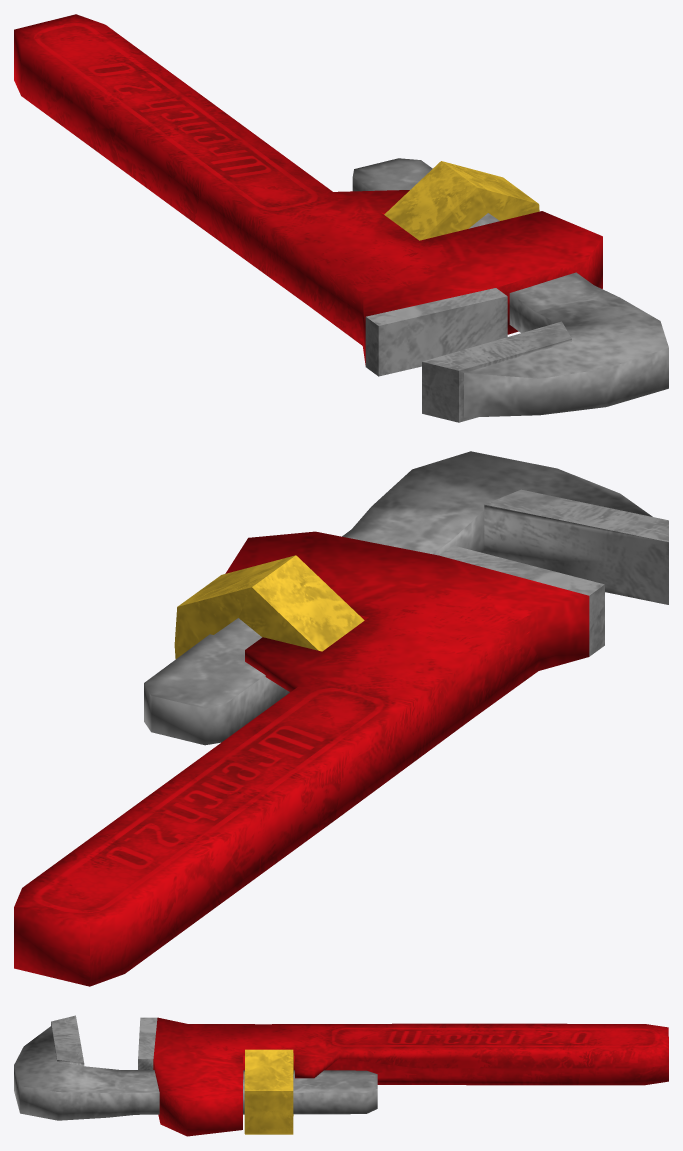
File: WrenchMono.fbx
3 renders of one model, top to bottom at view 1: azimuth 30°, elevation 25°; view 2: azimuth 150°, elevation 25°; view 3: azimuth 270°, elevation 25°, orthographic. The views are drawn at different scales.
Visible parts, largest first — view 1: Wrench_Normal; view 2: Wrench_Normal; view 3: Wrench_Normal.
Boxes of the visible parts, <box> form: Wrench_Normal: <box>14,14,668,422</box>; Wrench_Normal: <box>14,451,668,986</box>; Wrench_Normal: <box>14,1015,668,1136</box>.
Bounding box in the file's own units: 60.19 × 18.76 × 8.61.
